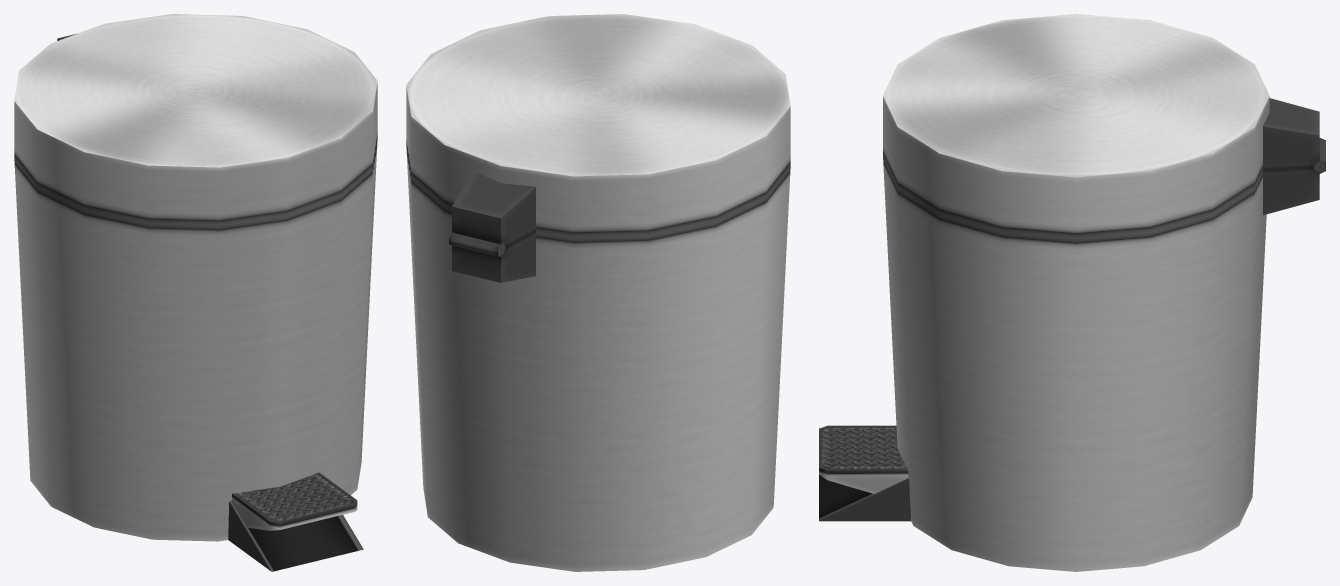
Rendered from wastebasket.dae.
3 renders of one model, left to right at view 1: azimuth 30°, elevation 25°; view 2: azimuth 150°, elevation 25°; view 3: azimuth 270°, elevation 25°, orthographic. The views are drawn at different scales.
Parts seen in each view (by area): view 1: Wastebasket; view 2: Wastebasket; view 3: Wastebasket.
Boxes of the visible parts, x1,y1,x2,y2 form: Wastebasket: (14, 14, 377, 571); Wastebasket: (406, 14, 790, 571); Wastebasket: (819, 14, 1325, 571).
Size of the model in its own units: 38.1 by 49.94 by 43.68.
